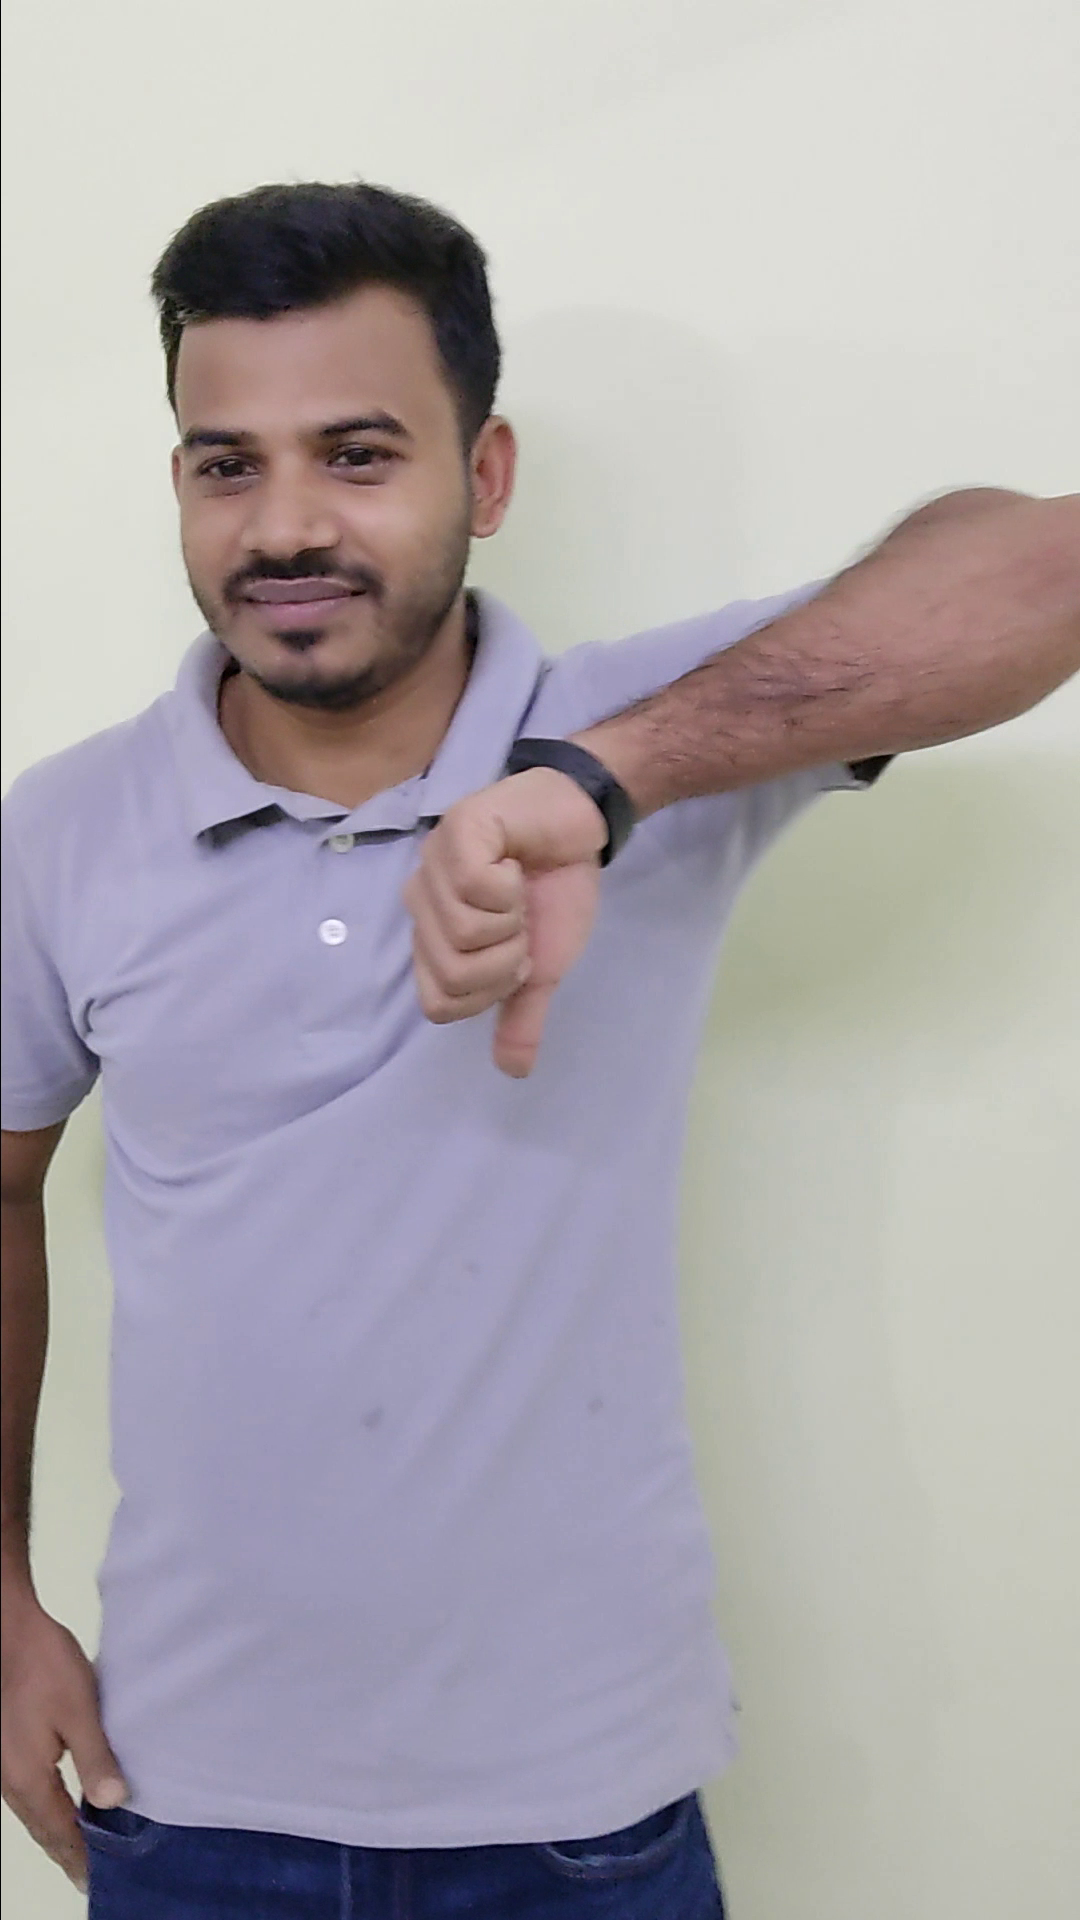Dislike: (386, 731, 634, 1096)
None: (3, 1567, 144, 1900)
